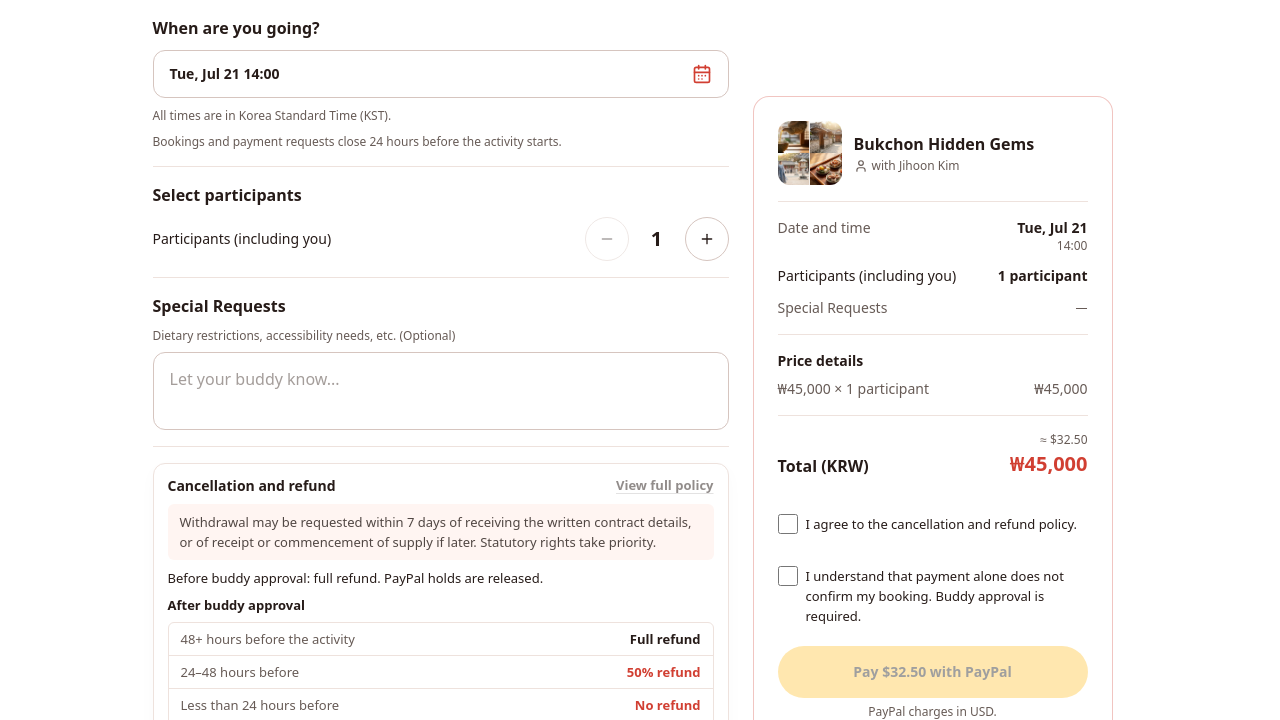
Test: BookingForm › fills current selections before consent without making a booking or exposing private requests
Step 1. Click the button named "Increase participants" → (706, 239), box left=684, top=217, right=728, bottom=261
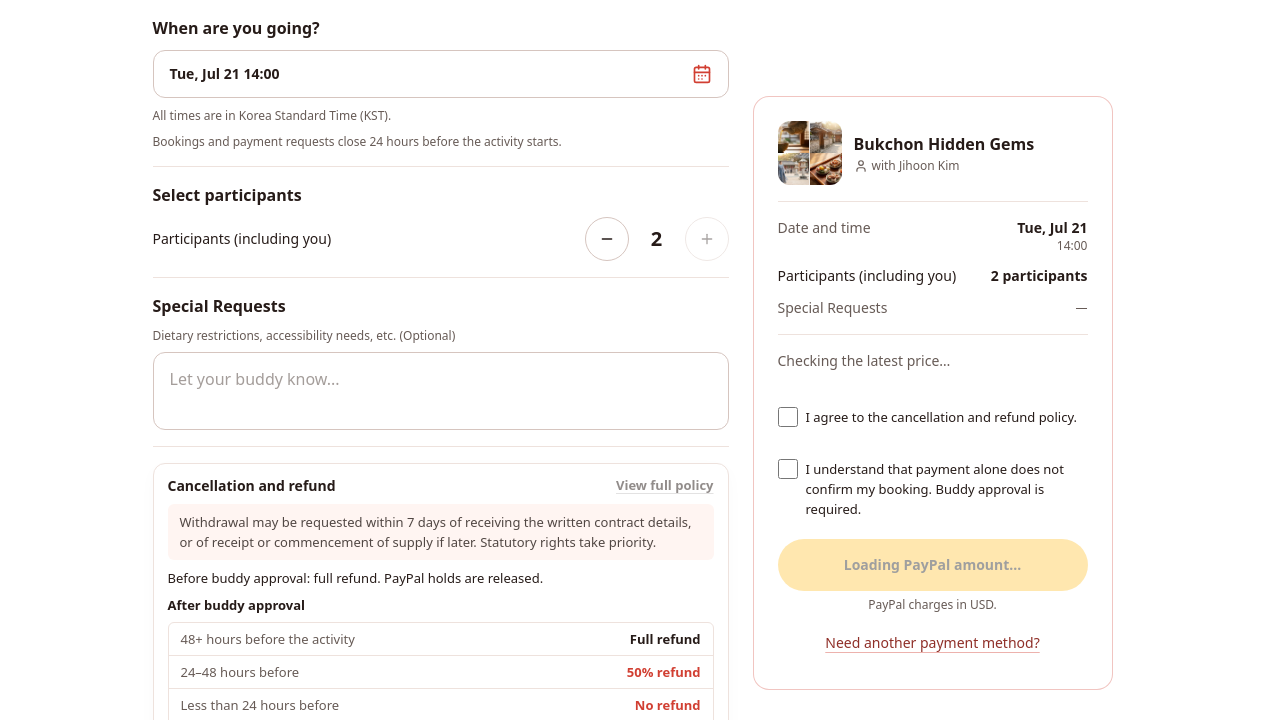
Step 2. Type "Private dietary request" into the text box with placeholder "Let your buddy know..." → (440, 391), box left=152, top=352, right=728, bottom=430
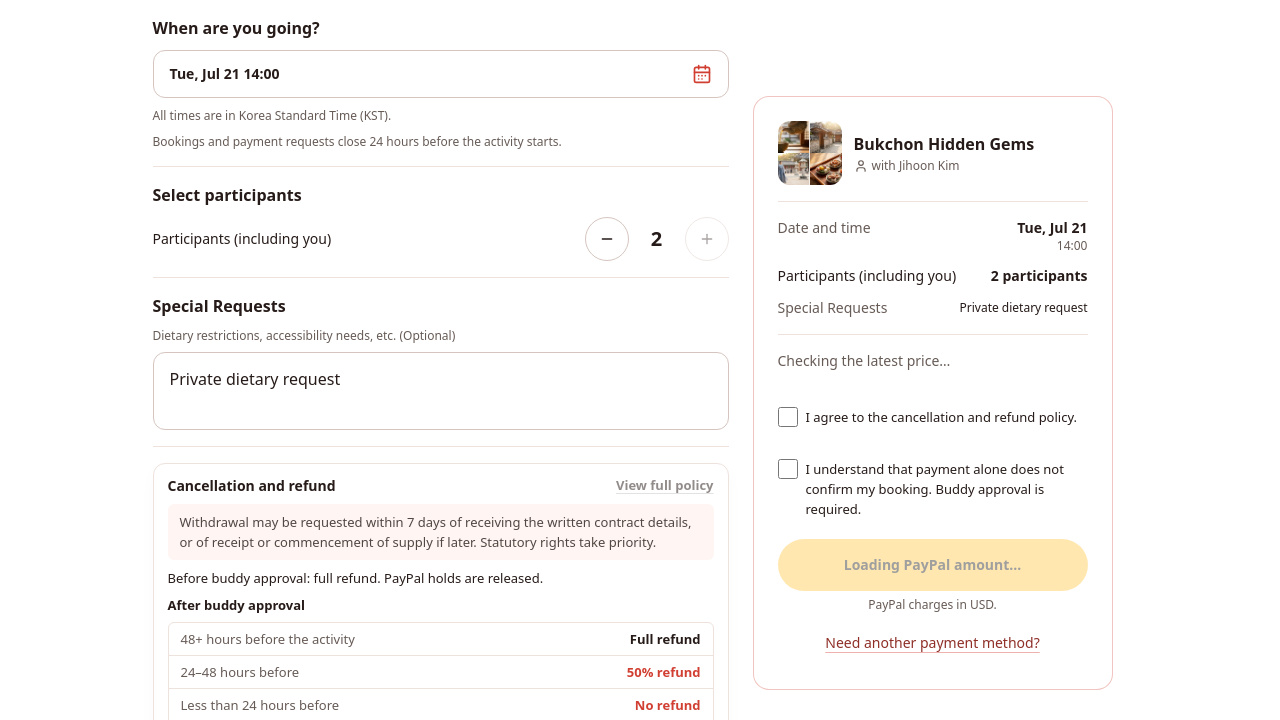
Step 3. Click the button "Need another payment method?" → (932, 643), box left=778, top=621, right=1088, bottom=665
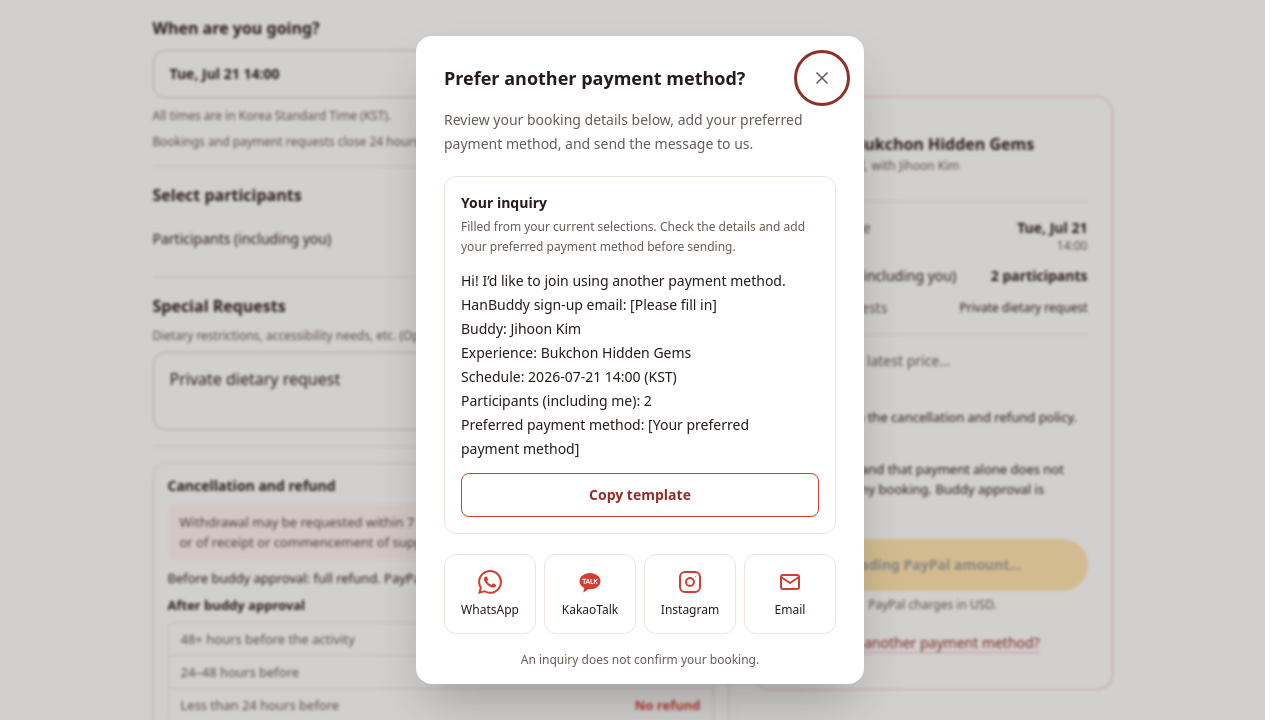
Check: the dialog "Prefer another payment method?" shows "Your inquiry", box left=461, top=193, right=547, bottom=212
Check: the dialog "Prefer another payment method?" shows "Bukchon Hidden Gems", box left=461, top=271, right=786, bottom=458
Check: the dialog "Prefer another payment method?" shows "2026-07-21 14:00 (KST)", box left=461, top=271, right=786, bottom=458
Step 4. Click the button named "Close dialog" → (822, 78), box left=800, top=56, right=844, bottom=100
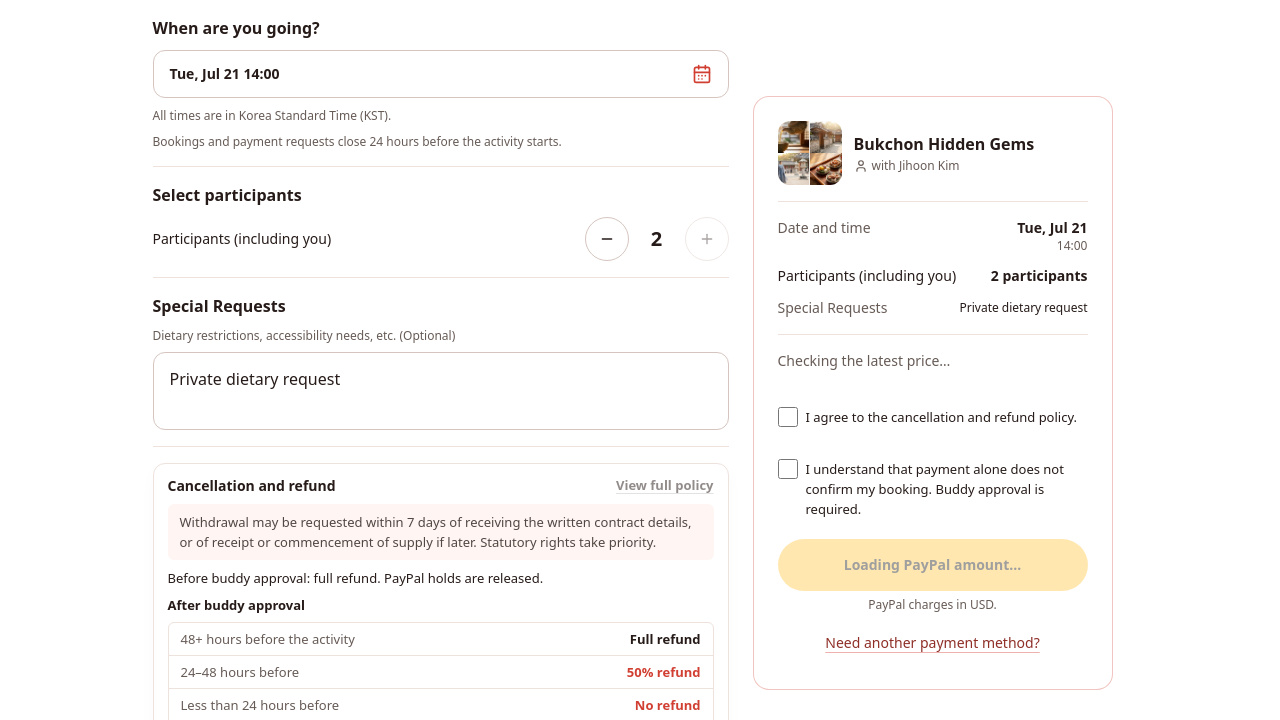
Step 5. Click the button named "Decrease participants" → (606, 239), box left=584, top=217, right=628, bottom=261
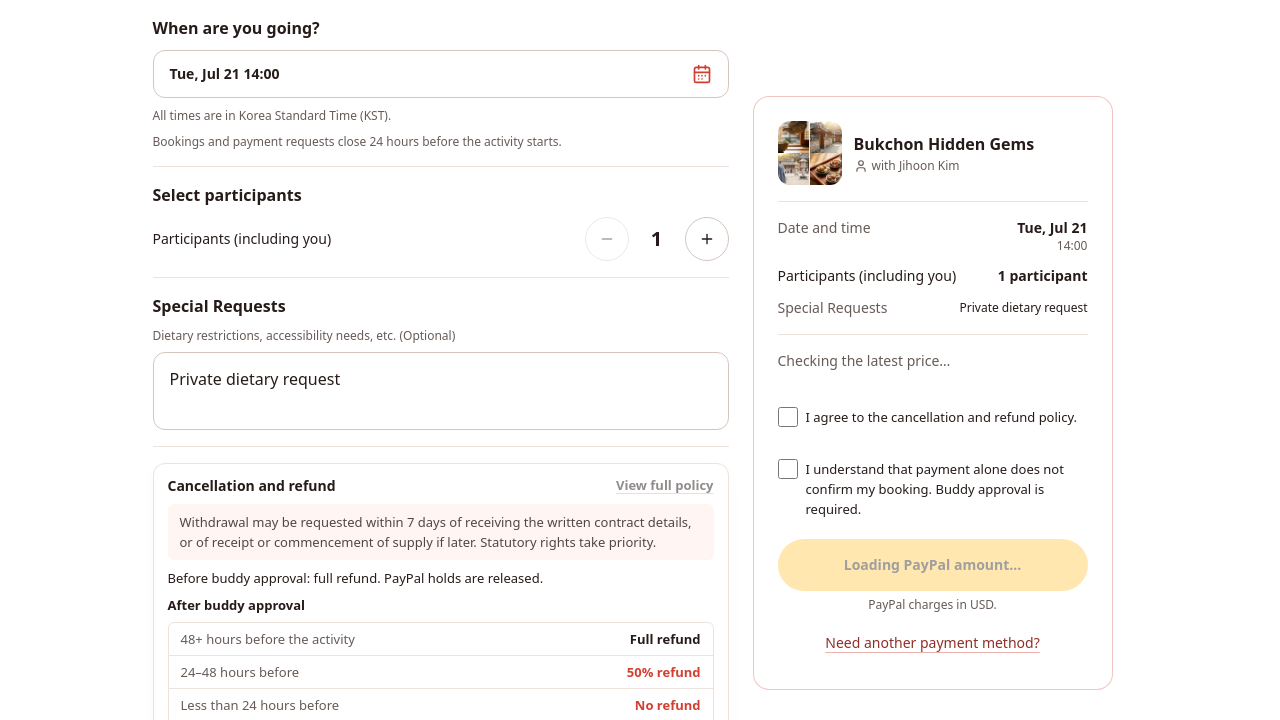
Step 6. Click the button "Need another payment method?" → (932, 643), box left=778, top=621, right=1088, bottom=665
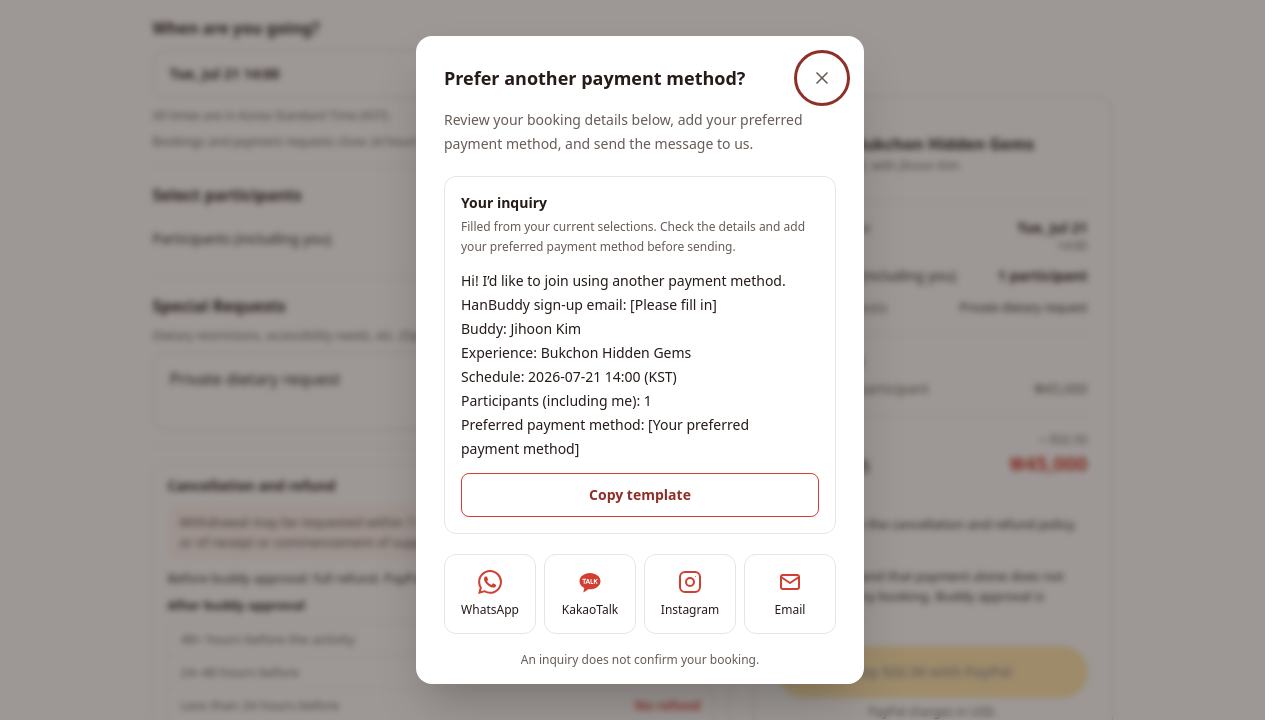
Check: the dialog shows "Participants (including me): 1", box left=461, top=271, right=786, bottom=458
